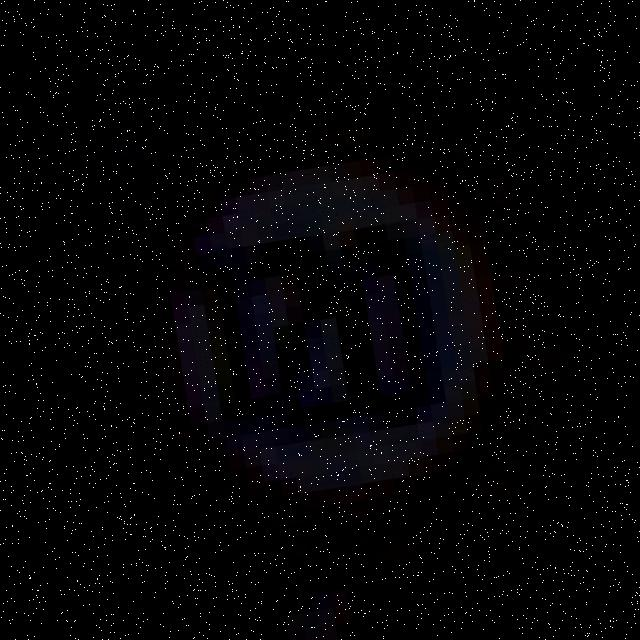Ograniczenie predkosci do 120: (93, 79, 581, 597)
